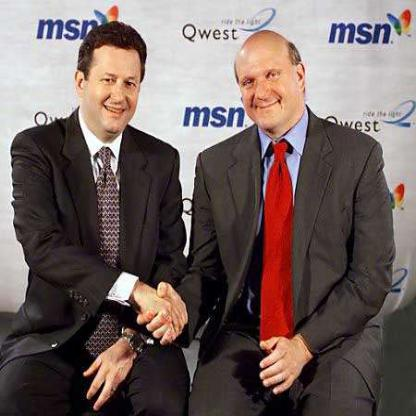face: (87, 26, 145, 137), (235, 35, 299, 131)
